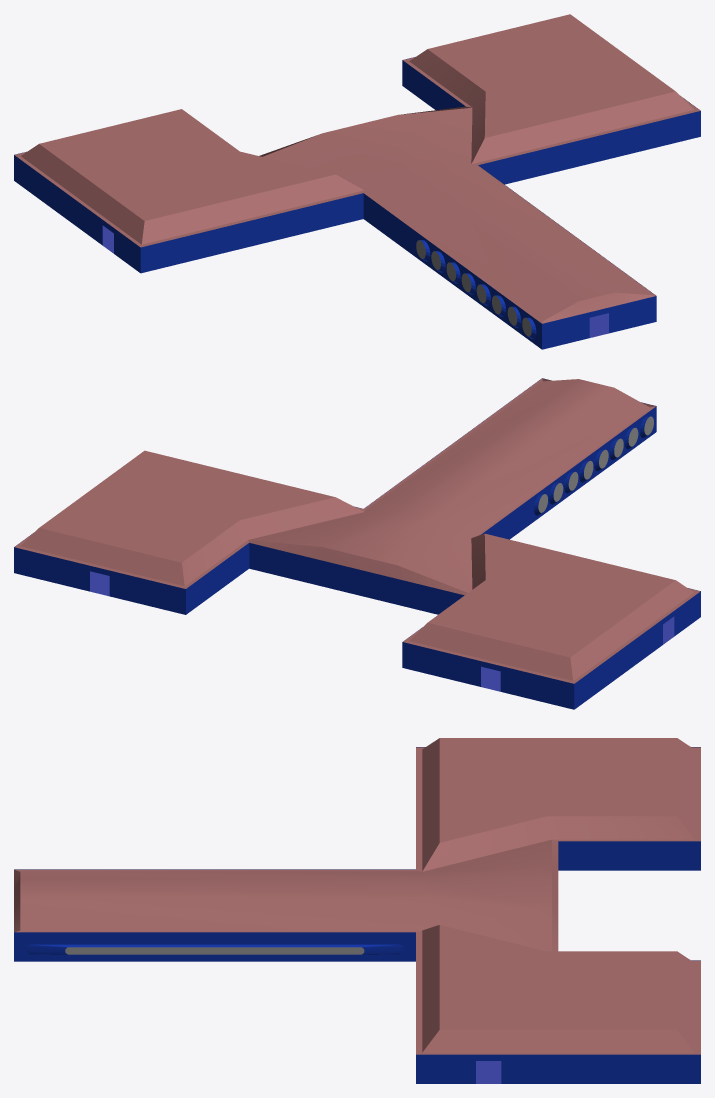
Rendered from Large Y Room With Windows SS.FBX.
The picture shows the model from 3 angles, top to bottom: view 1: azimuth 30°, elevation 25°; view 2: azimuth 150°, elevation 25°; view 3: azimuth 270°, elevation 25°; orthographic projection. The views are drawn at different scales.
Visible parts, largest first — view 1: Object007, Object008, Object009, Object010, Plane062, Object011, Object012; view 2: Object007, Object009, Object008, Object011, Object010, Plane062, Object012; view 3: Object007, Object009, Object008, Plane062, Object011, Object012.
Part boxes in pixels (bbox=[...]): Object007: bbox=[259, 106, 655, 323]; Object008: bbox=[14, 109, 364, 247]; Object009: bbox=[403, 14, 700, 165]; Object010: bbox=[14, 151, 363, 273]; Plane062: bbox=[363, 165, 656, 349]; Object011: bbox=[402, 57, 700, 184]; Object012: bbox=[416, 240, 531, 336]; Object007: bbox=[248, 378, 655, 595]; Object009: bbox=[14, 450, 364, 588]; Object008: bbox=[403, 533, 700, 683]; Object011: bbox=[14, 506, 464, 614]; Object010: bbox=[402, 588, 700, 709]; Plane062: bbox=[365, 378, 656, 641]; Object012: bbox=[538, 416, 653, 512]; Object007: bbox=[14, 839, 558, 951]; Object009: bbox=[416, 925, 700, 1054]; Object008: bbox=[416, 738, 700, 871]; Plane062: bbox=[14, 841, 700, 961]; Object011: bbox=[416, 960, 700, 1083]; Object012: bbox=[65, 947, 364, 954].
Bounding box in the file's own units: 115 × 8.05 × 108.
